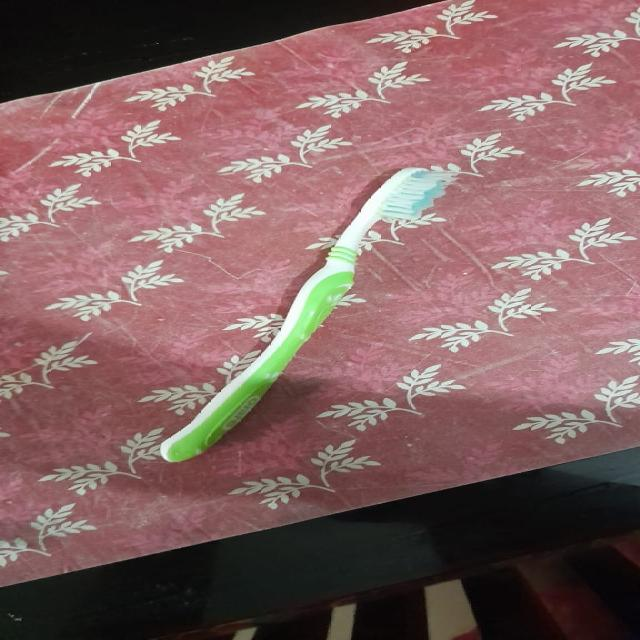Tooth_Brush - Non Recyclable: (85, 152, 492, 487)
